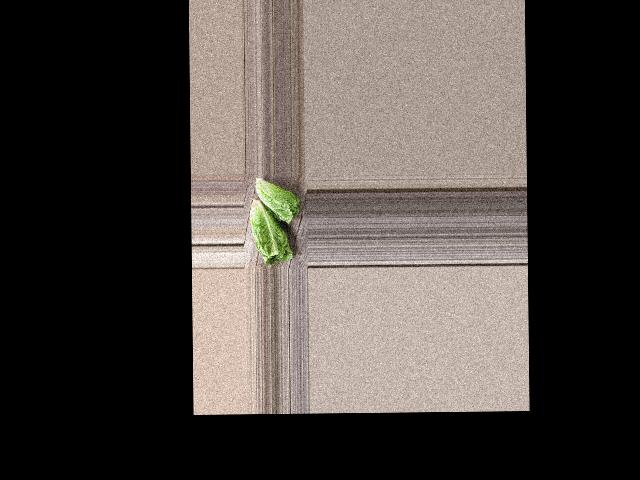lettuce: (253, 174, 304, 225)
